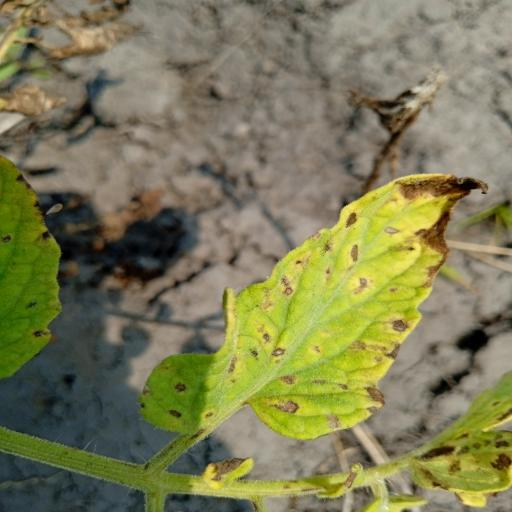Tomato_Brown_Spots: (135, 168, 495, 443)
